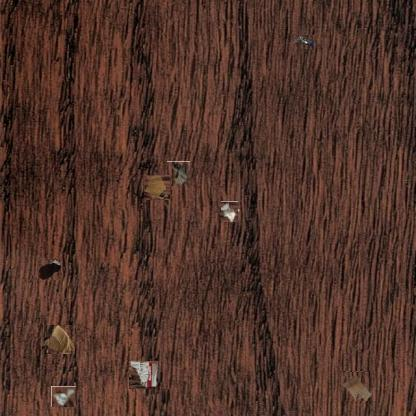dirty: (41, 324, 75, 354), (340, 371, 372, 401), (129, 360, 158, 390), (166, 161, 190, 186), (51, 386, 76, 407), (220, 202, 239, 222), (292, 35, 314, 49)
liquid: (144, 174, 170, 200), (36, 258, 62, 280)
